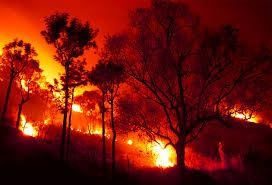fire: (146, 135, 176, 167), (225, 101, 263, 125)
